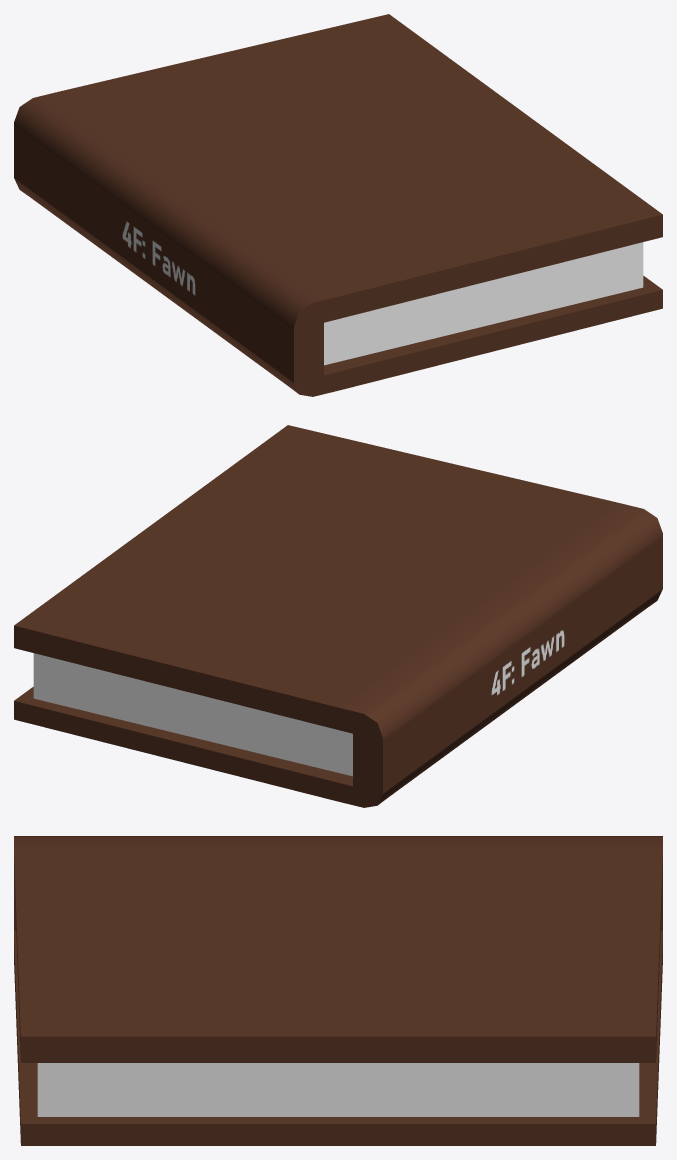
File: furniture_decor_210027.glb
The picture shows the model from 3 angles, top to bottom: view 1: azimuth 30°, elevation 25°; view 2: azimuth 150°, elevation 25°; view 3: azimuth 270°, elevation 25°; orthographic projection. The views are drawn at different scales.
Parts seen in each view (by area): view 1: furniture_decor_210027; view 2: furniture_decor_210027; view 3: furniture_decor_210027.
Boxes of the visible parts, x1=… form: furniture_decor_210027: x1=14, y1=14, x2=662, y2=396; furniture_decor_210027: x1=14, y1=425, x2=662, y2=807; furniture_decor_210027: x1=14, y1=836, x2=662, y2=1145.
Bounding box in the file's own units: 0.1987 × 0.048 × 0.2589.
1 material, 1 textured.
